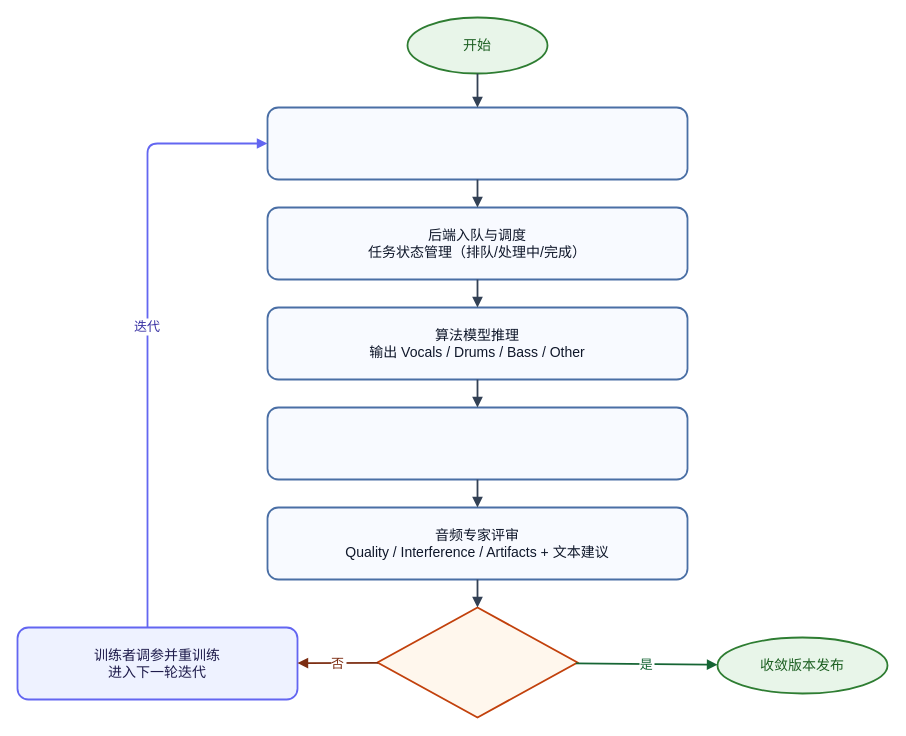
This 906x736 diagram has some shape labels left out. Here are the shapes that lost their labels. From the top down, the box of each, then its label:
(266, 106, 688, 180): 专家上传混合音频 选择算法版本并创建任务
(266, 406, 688, 480): 客观分析与可视化 SDR/SIR/SAR + 波形/频谱 + 残差试听
(376, 606, 578, 718): 达到预期目标? (指标 + 听感 + 稳定性)
